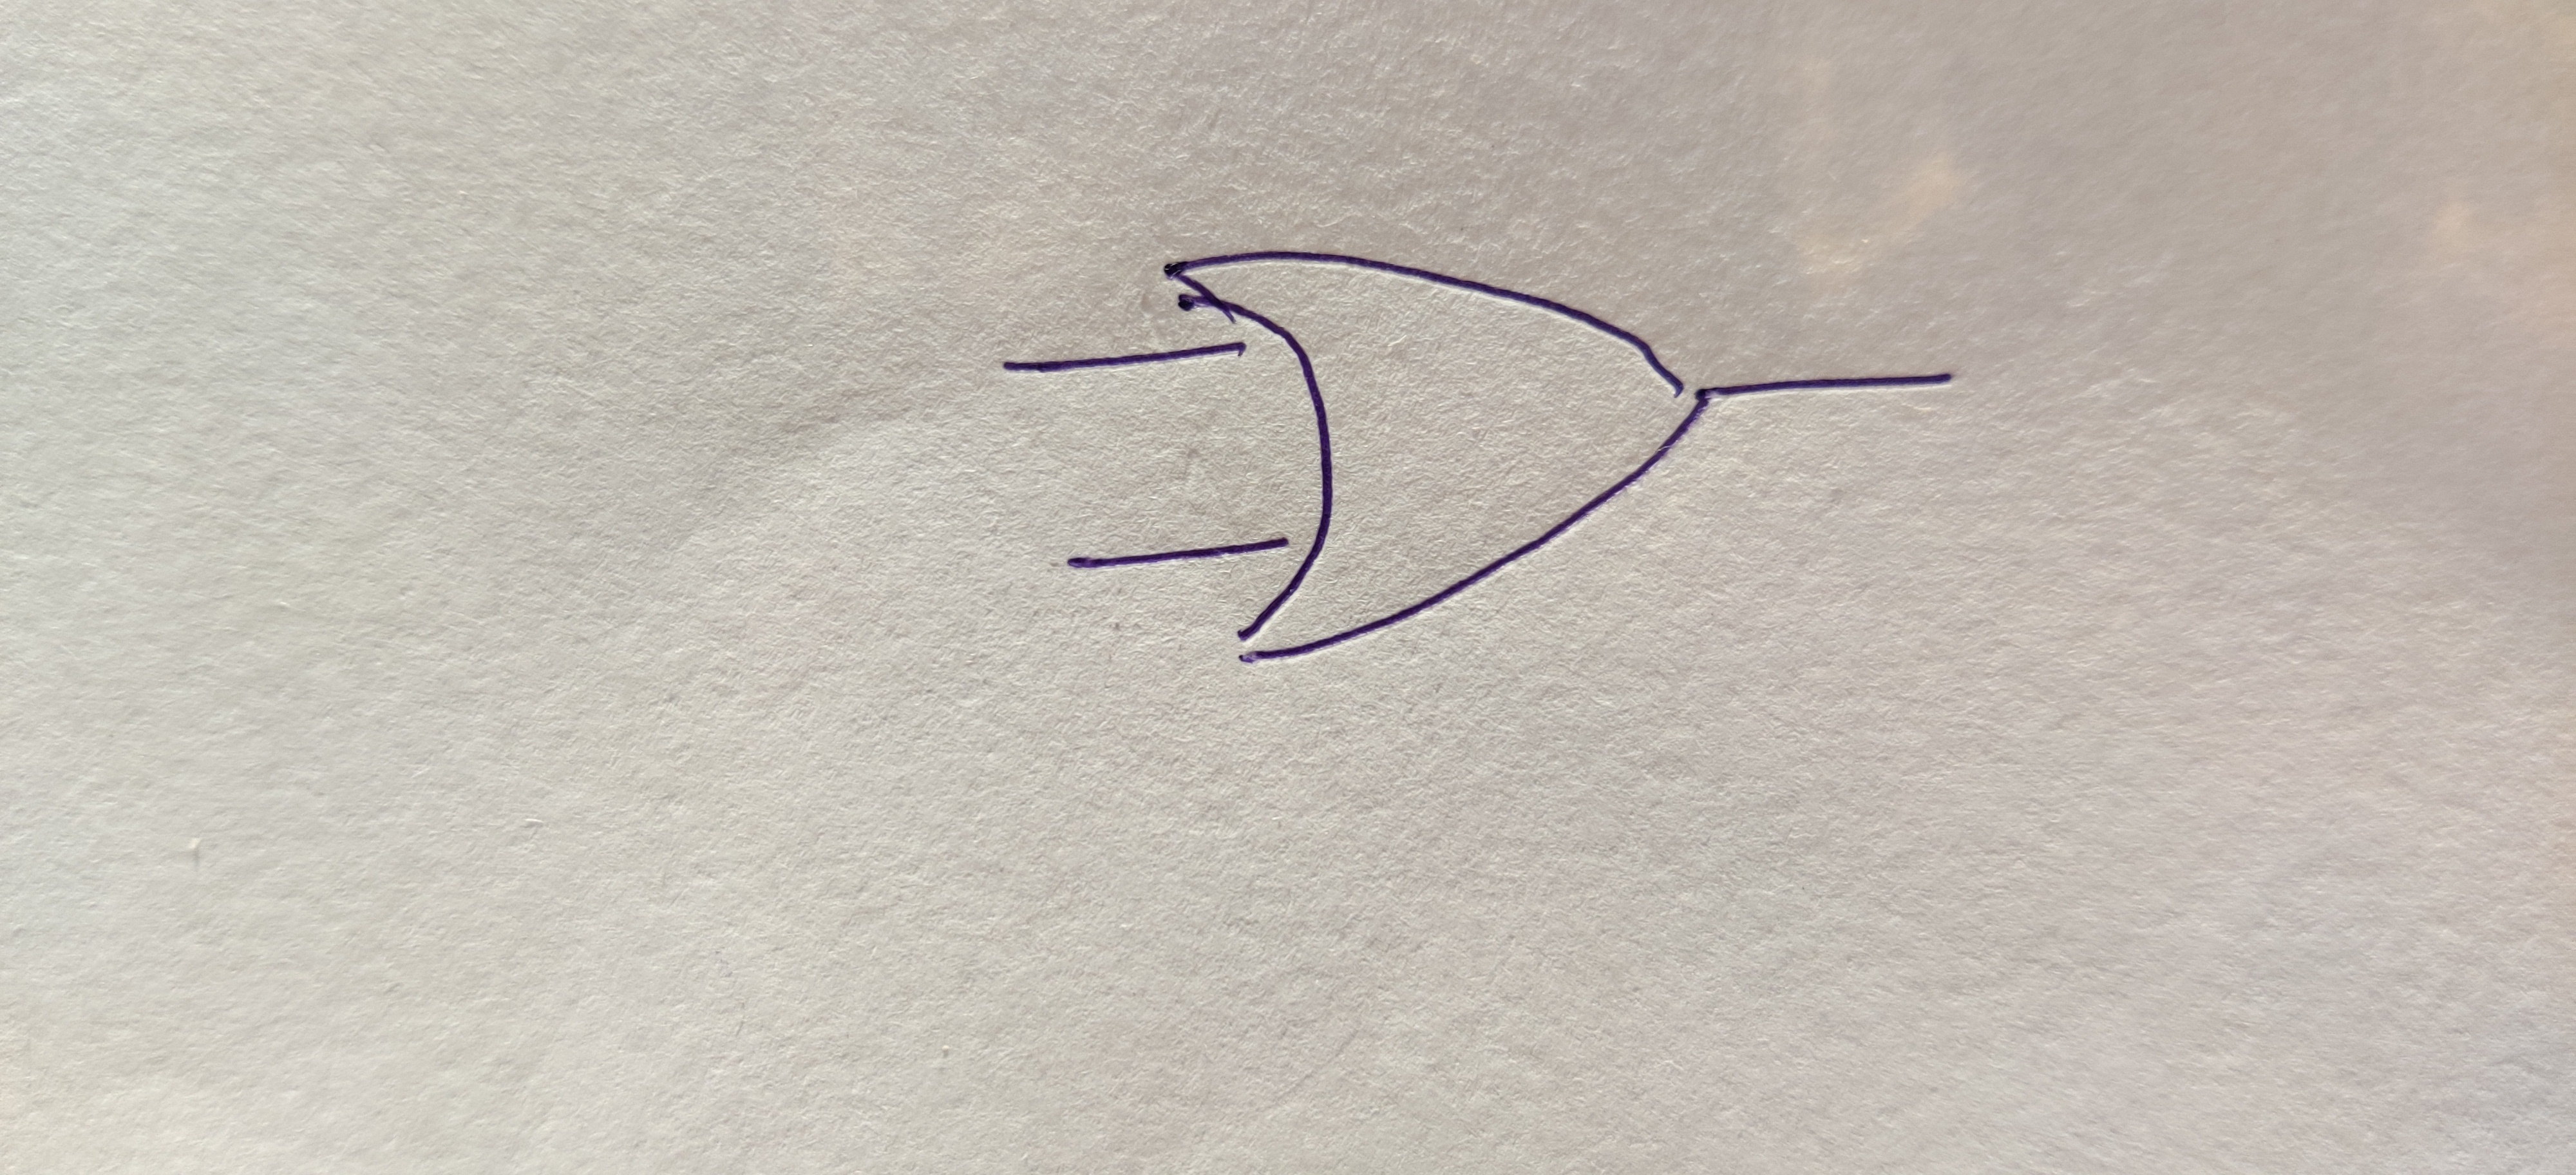or: (1170, 250, 1702, 662)
